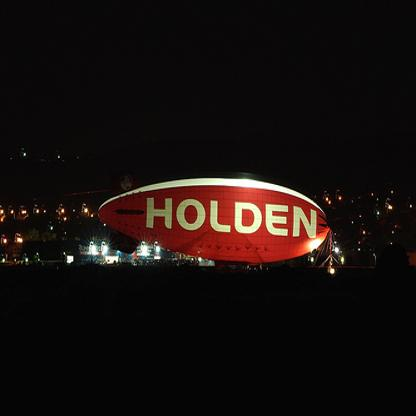Airship: (92, 174, 346, 277)
